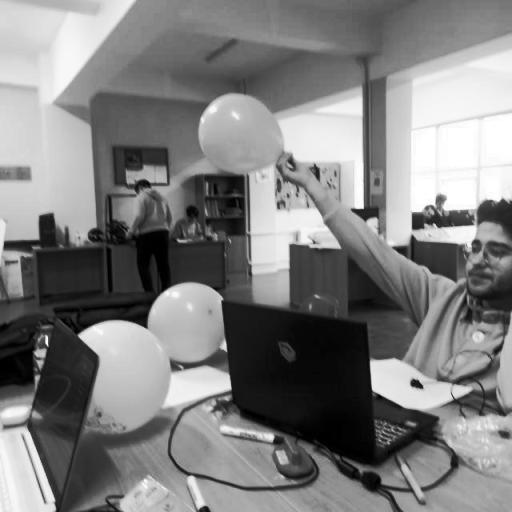balloon: (197, 93, 287, 176)
